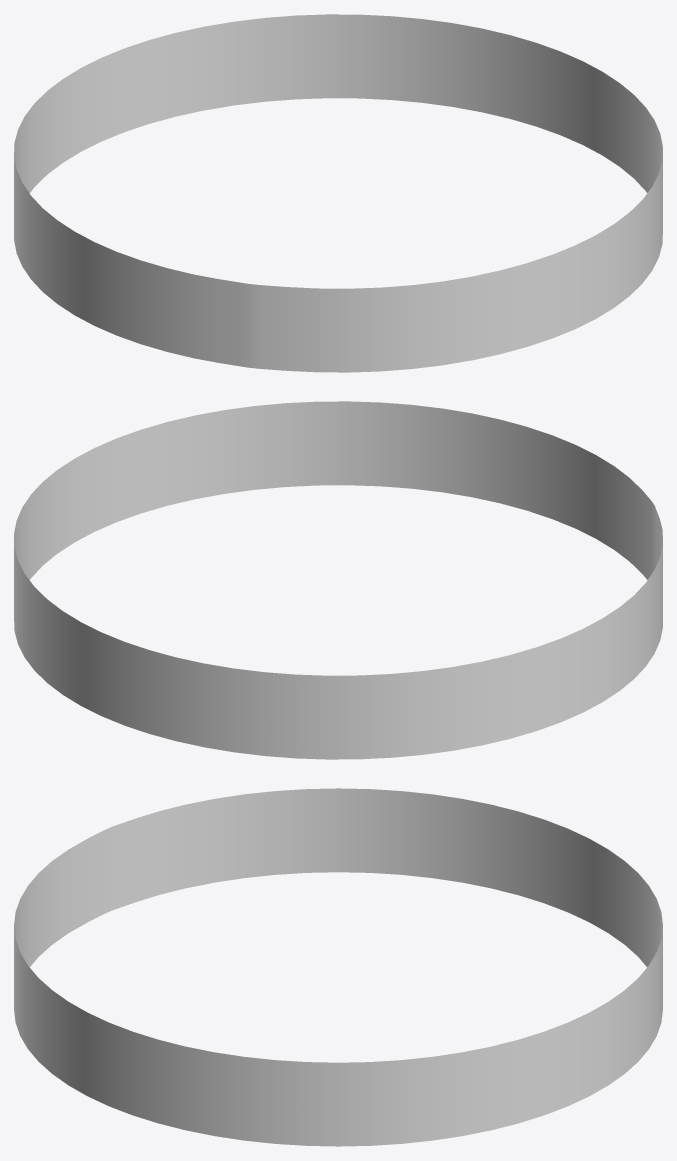
Rendered from centrocuerpo.obj.
3 views of the same model, one above another, from view 1: azimuth 30°, elevation 25°; view 2: azimuth 150°, elevation 25°; view 3: azimuth 270°, elevation 25° (orthographic).
Visible parts, largest first — view 1: Object001; view 2: Object001; view 3: Object001.
Part boxes in pixels (box(x1,y1,x2,y2)): Object001: box(14, 14, 662, 372); Object001: box(14, 401, 662, 759); Object001: box(14, 788, 662, 1146).
Bounding box in the file's own units: 2.76 × 0.3931 × 2.76.
1 material, 1 textured.
